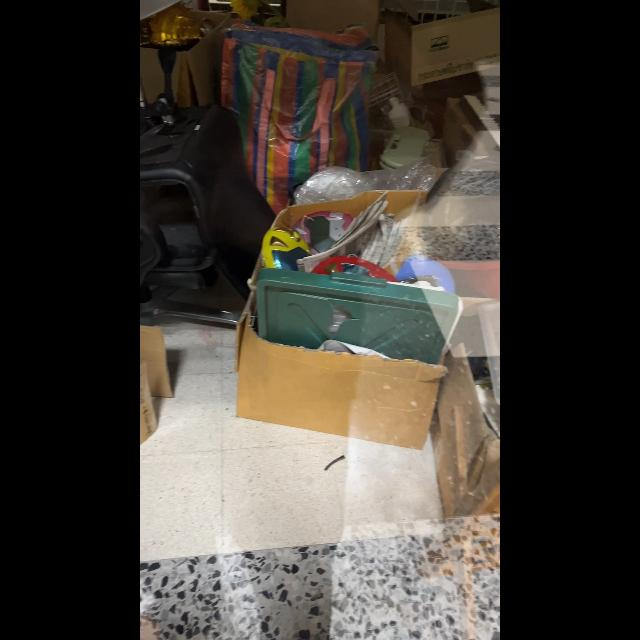cardboard_box: (232, 309, 436, 456)
